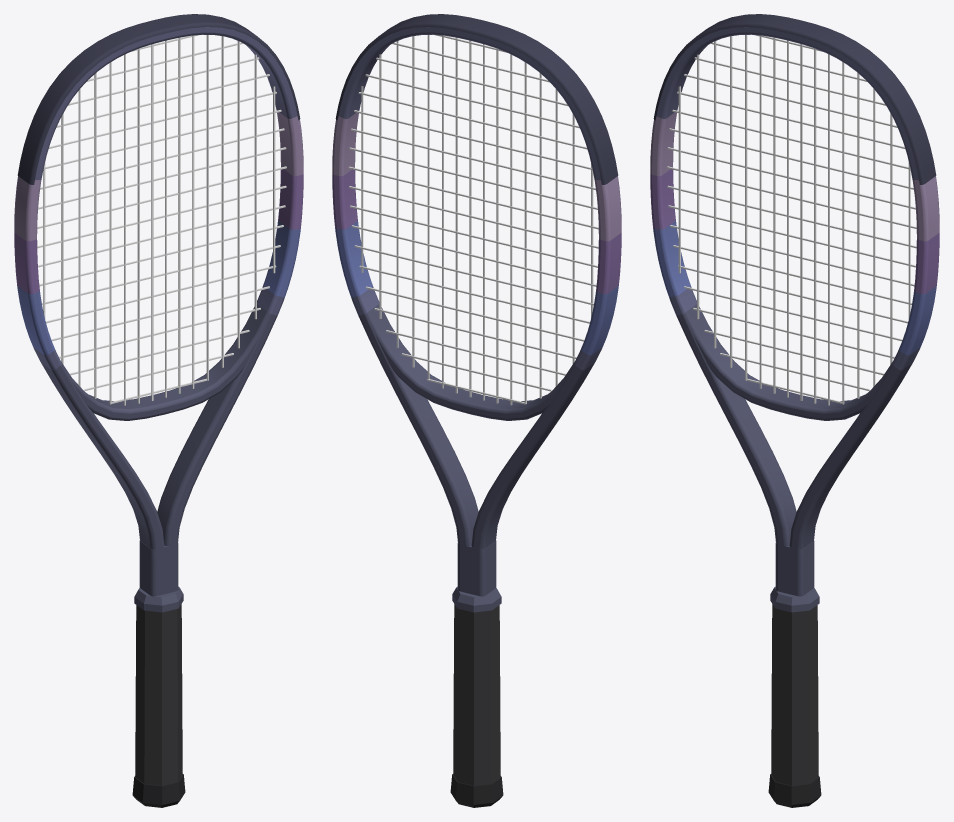
The model's file is yonex-percept-100-2023.glb.
3 views of the same model, side by side, from view 1: azimuth 30°, elevation 25°; view 2: azimuth 150°, elevation 25°; view 3: azimuth 330°, elevation 25° (orthographic).
Parts seen in each view (by area): view 1: frame, strings_mains, strings_crosses, grip, bumper, butt_cap, collar; view 2: frame, strings_mains, strings_crosses, grip, bumper, butt_cap, collar; view 3: frame, strings_mains, strings_crosses, grip, bumper, butt_cap, collar.
Part boxes in pixels (x1,y1,x2,y2): frame: [14, 27, 303, 596]; strings_mains: [43, 35, 275, 405]; strings_crosses: [37, 35, 286, 403]; grip: [135, 604, 182, 785]; bumper: [17, 14, 300, 184]; butt_cap: [132, 774, 185, 807]; collar: [134, 586, 183, 612]; frame: [332, 27, 621, 596]; strings_mains: [361, 35, 593, 405]; strings_crosses: [348, 35, 598, 404]; grip: [453, 604, 500, 785]; bumper: [335, 14, 618, 184]; butt_cap: [450, 774, 503, 807]; collar: [452, 586, 501, 612]; frame: [650, 27, 939, 596]; strings_mains: [678, 35, 910, 405]; strings_crosses: [667, 35, 916, 403]; grip: [771, 604, 818, 785]; bumper: [653, 14, 936, 184]; butt_cap: [768, 774, 821, 807]; collar: [770, 586, 819, 612].
Bounding box in the file's own units: 0.2583 × 0.6861 × 0.0396.
